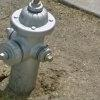Hydrant: (2, 2, 58, 96)
